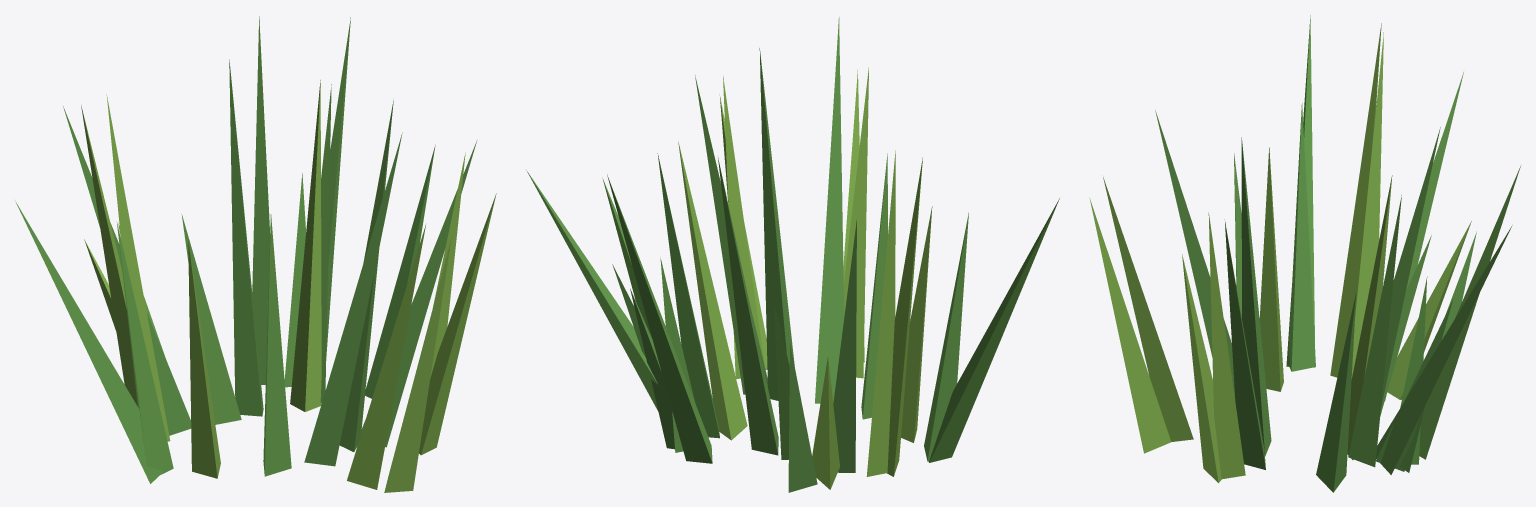
Rendered from low-poly-grass-clump.glb.
3 views of the same model, side by side, from view 1: azimuth 30°, elevation 25°; view 2: azimuth 150°, elevation 25°; view 3: azimuth 270°, elevation 25° (orthographic). The views are drawn at different scales.
Visible parts, largest first — view 1: Low_Poly_Grass_Clump; view 2: Low_Poly_Grass_Clump; view 3: Low_Poly_Grass_Clump.
Boxes of the visible parts, bbox=[...] form: Low_Poly_Grass_Clump: bbox=[15, 16, 496, 492]; Low_Poly_Grass_Clump: bbox=[526, 17, 1059, 492]; Low_Poly_Grass_Clump: bbox=[1089, 15, 1520, 492].
Size of the model in its own units: 0.699 by 0.5418 by 0.6112.
